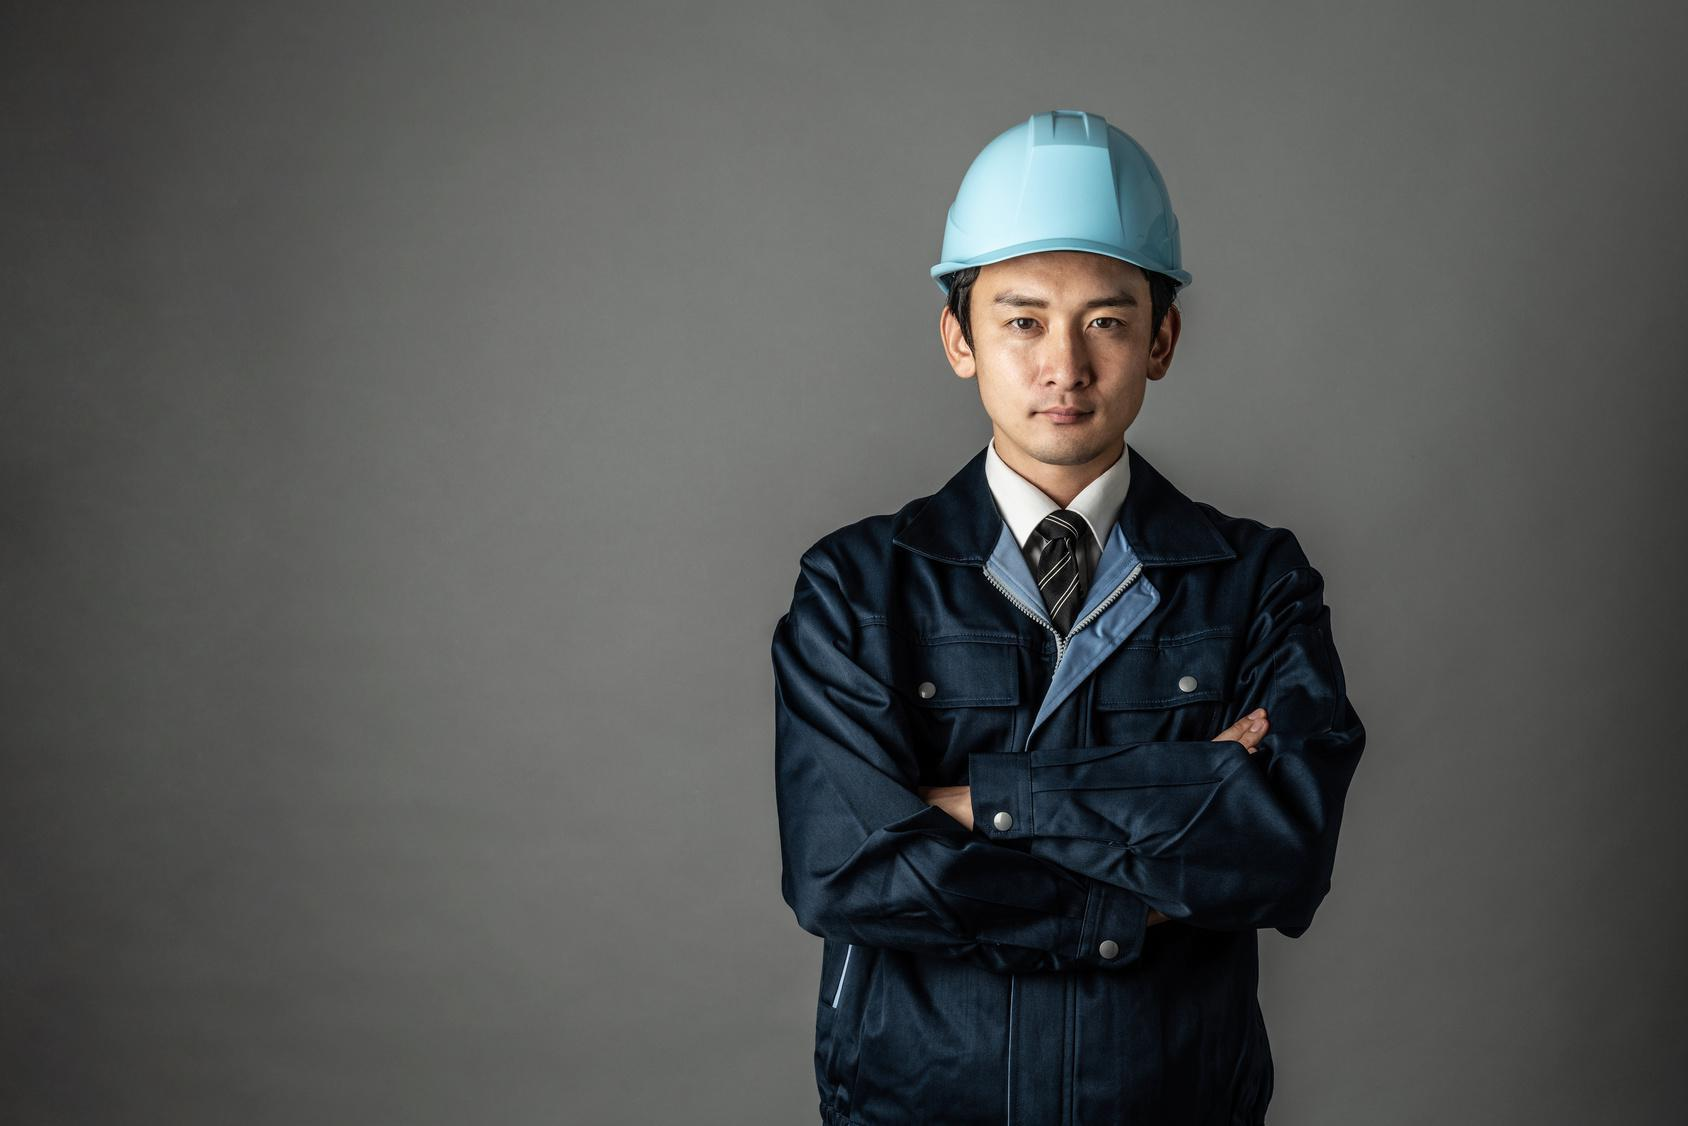helmet: (926, 108, 1202, 288)
